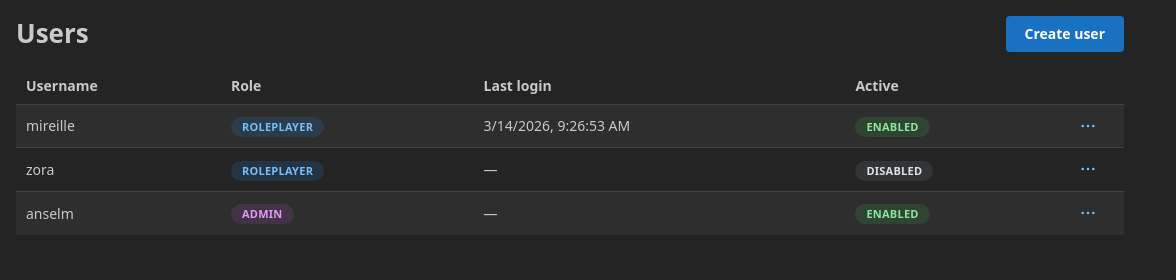
Test: R5 — the page shows accounts and nothing else › the row menus carry nothing about a character, setup, session, entry or memo — DoD-5 (US-011.AC-2)
The image size is (1176, 280).
Click the submit button.
click(1088, 126)  # box [1074,112,1102,140]
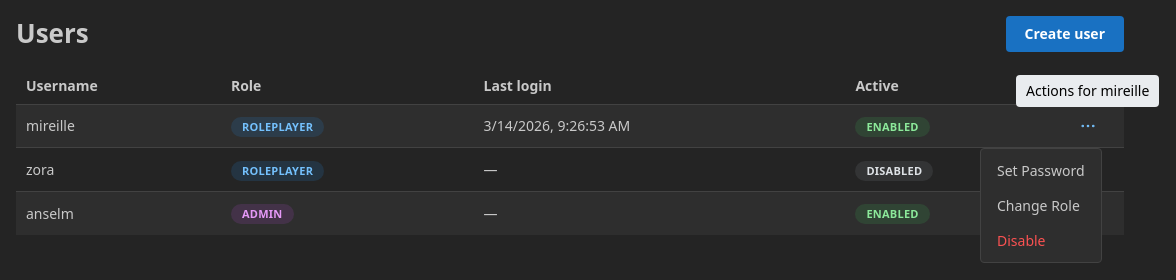
Expected: the menu item "Disable" is shown, [985,223,1097,258]
